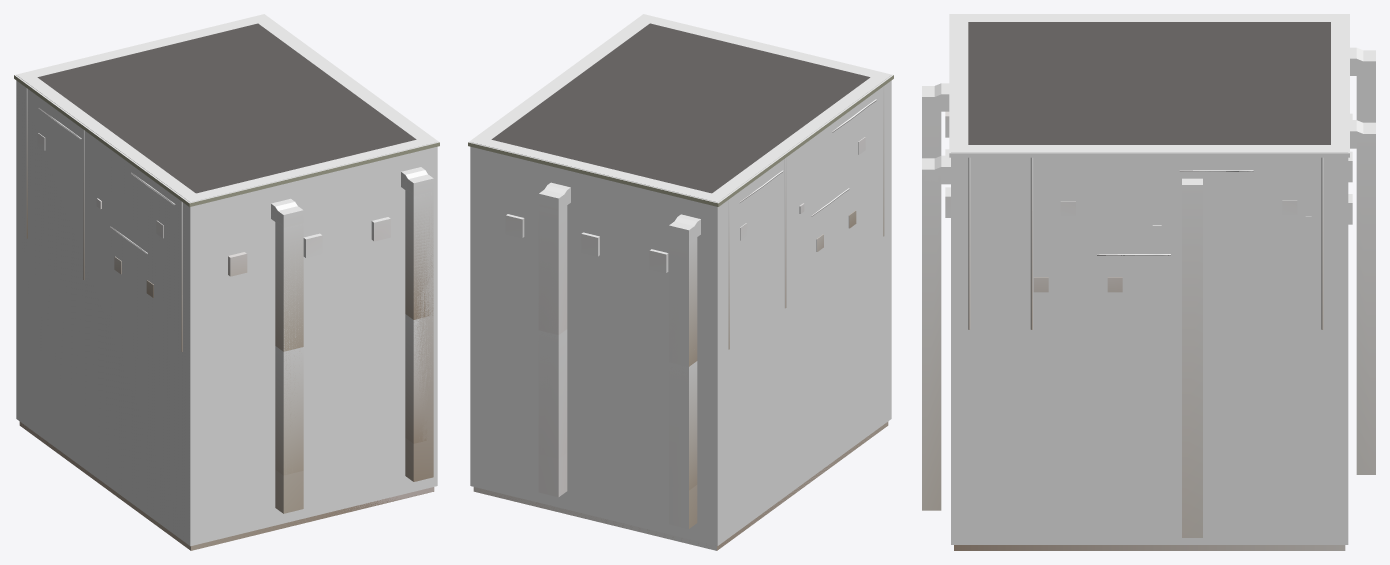
The model's file is warehouse1.dae.
3 views of the same model, side by side, from view 1: azimuth 30°, elevation 25°; view 2: azimuth 150°, elevation 25°; view 3: azimuth 270°, elevation 25° (orthographic). The views are drawn at different scales.
Parts seen in each view (by area): view 1: Colmesh-1, warehouse1_a100, warehouse1_a500, warehouse1_a250; view 2: Colmesh-1, warehouse1_a100, warehouse1_a500, warehouse1_a250; view 3: Colmesh-1, warehouse1_a100, warehouse1_a500, warehouse1_a250.
Boxes of the visible parts, x1,y1,x2,y2 form: Colmesh-1: (16,14,437,546); warehouse1_a100: (19,23,434,524); warehouse1_a500: (14,14,439,550); warehouse1_a250: (14,75,433,523); Colmesh-1: (470,14,891,546); warehouse1_a100: (474,23,887,547); warehouse1_a500: (468,14,893,550); warehouse1_a250: (468,77,890,540); Colmesh-1: (922,14,1375,544); warehouse1_a100: (968,22,1330,144); warehouse1_a500: (923,14,1363,550); warehouse1_a250: (924,58,1361,183).
Size of the model in its own units: 14.78 by 19.56 by 19.01.
